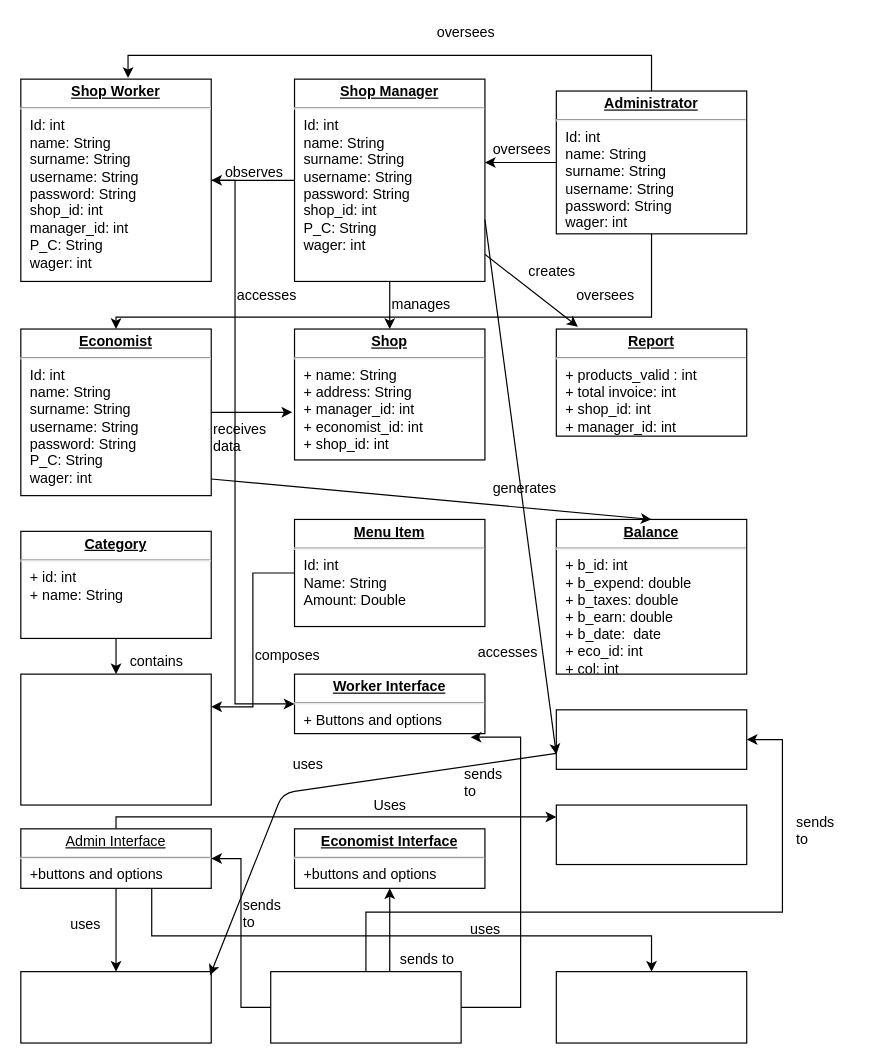
The diagram is 875 pixels wide and 1064 high, and some of its shapes have lost their labels. Each missing label, with the box of its shape:
Log In Interface +fields +buttons: (270, 970, 461, 1043)
Manager Interface +buttons and options: (555, 709, 747, 769)
Modify Products +buttons and options: (555, 970, 747, 1043)
Modify Users +buttons and options: (555, 804, 747, 865)
Password Change +fields and buttons: (20, 970, 211, 1043)
Product +id: int +name: String +Item list: list Category; id Price: double: (20, 673, 211, 805)
